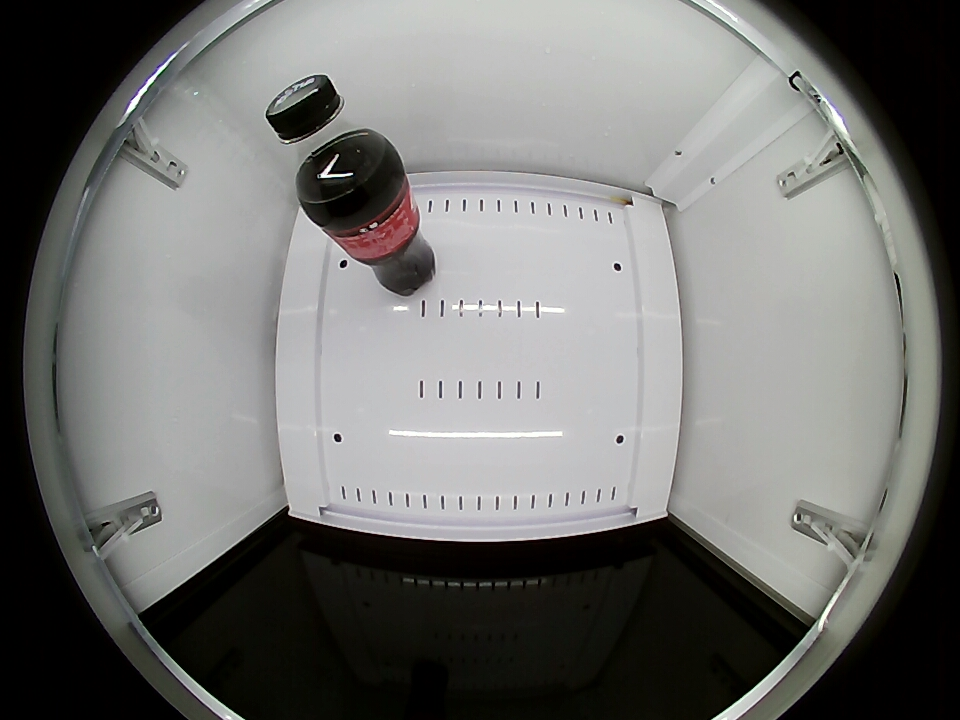lingdukele-b: (266, 74, 391, 204)
